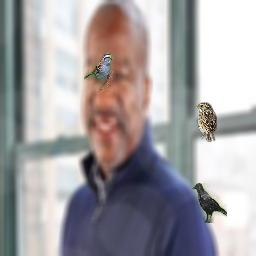Crow: (192, 183, 227, 223)
Sparrow: (84, 53, 113, 93), (194, 102, 217, 142)
